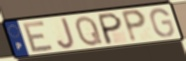E: (21, 19, 55, 54)
G: (149, 7, 176, 38)
J: (56, 16, 76, 50)
P: (119, 8, 147, 44), (98, 11, 124, 46)
Q: (74, 15, 105, 48)
